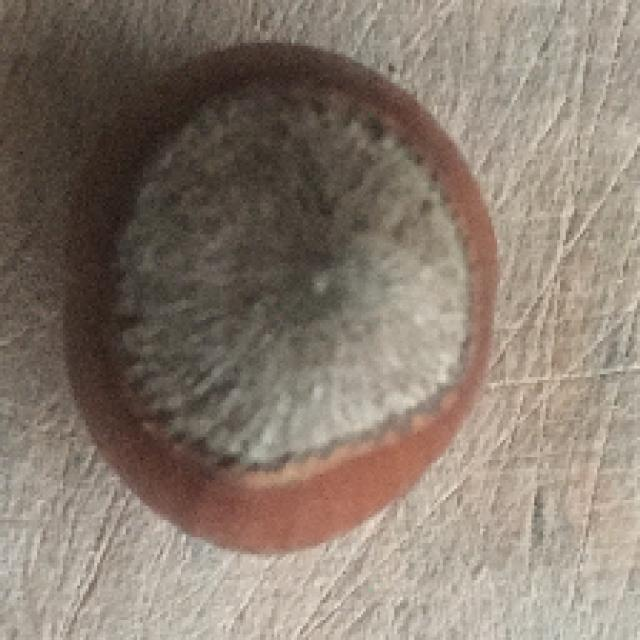qualityHazelnut: (62, 39, 501, 560)
